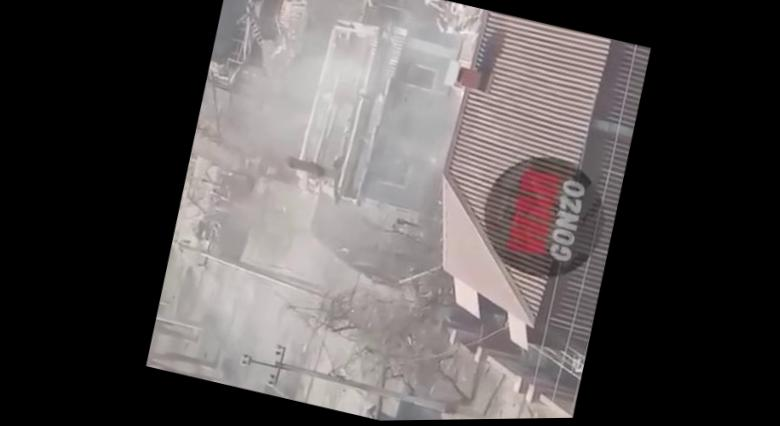tank: (352, 344, 444, 421)
